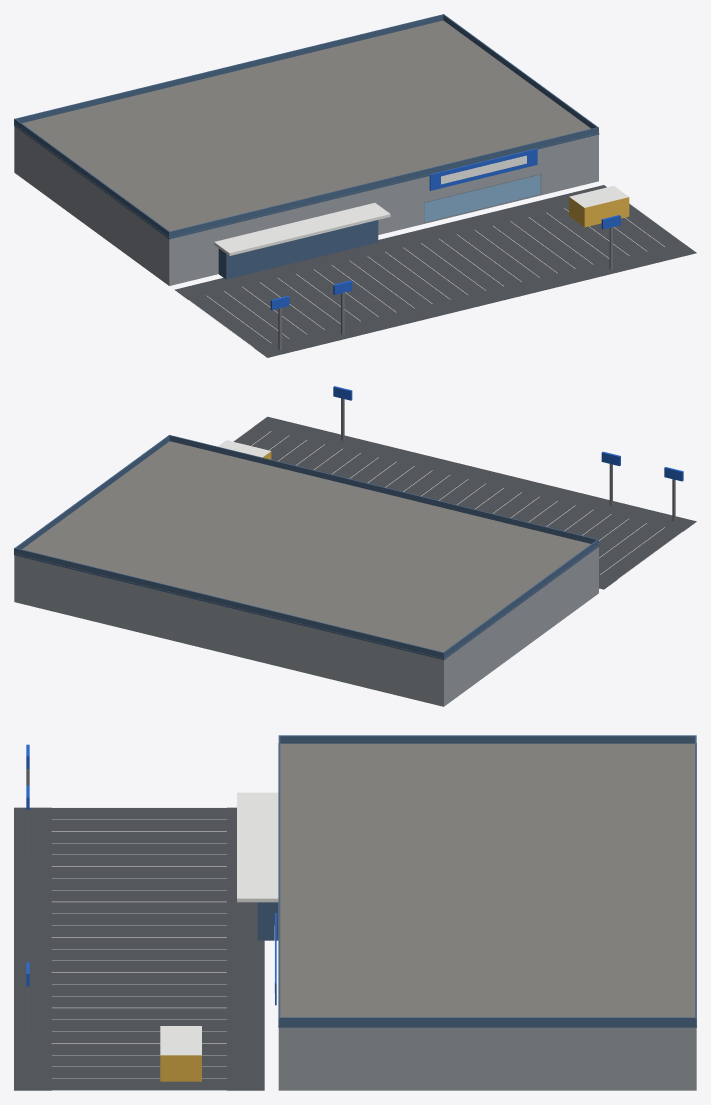
The model's file is hypermarche.glb.
The picture shows the model from 3 angles, top to bottom: view 1: azimuth 30°, elevation 25°; view 2: azimuth 150°, elevation 25°; view 3: azimuth 270°, elevation 25°; orthographic projection. The views are drawn at different scales.
Parts seen in each view (by area): view 1: hypermarche; view 2: hypermarche; view 3: hypermarche.
Boxes of the visible parts, x1,y1,x2,y2 form: hypermarche: [14, 14, 696, 357]; hypermarche: [14, 386, 696, 706]; hypermarche: [14, 735, 696, 1090].
Bounding box in the file's own units: 96.12 × 11.5 × 98.05.
Materials: 1 (1 with a texture image).
